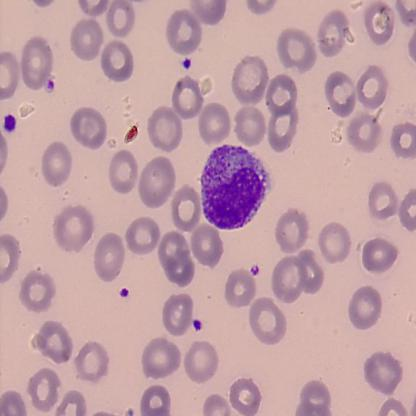Metamyelocyte: (198, 141, 272, 232)
